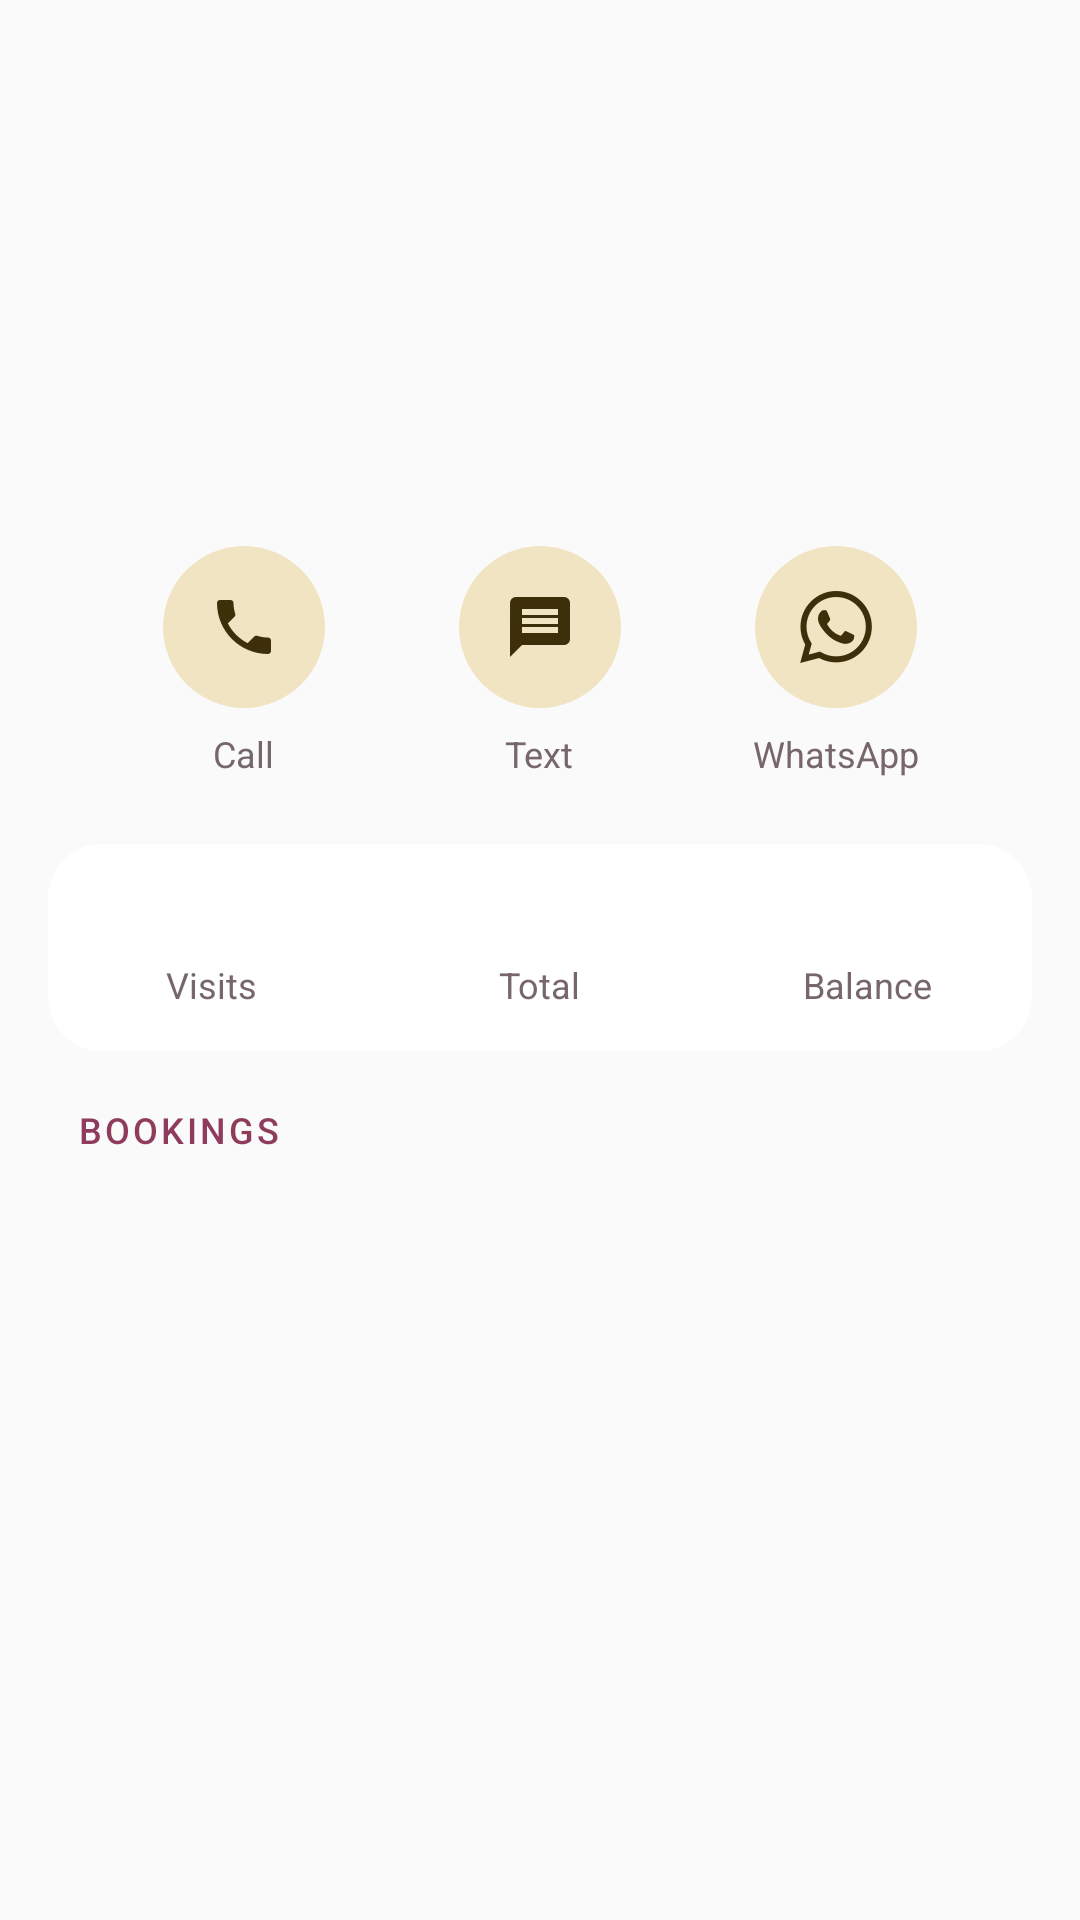

Icons on this 1080×1920 Android screen, each with the point to tap as (x=x, y=y):
phone: (x=244, y=627)
